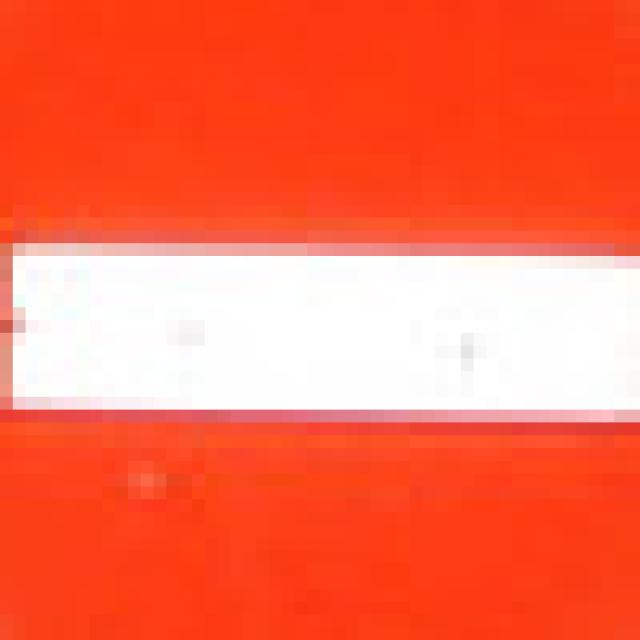no_fire: (36, 66, 640, 504)
